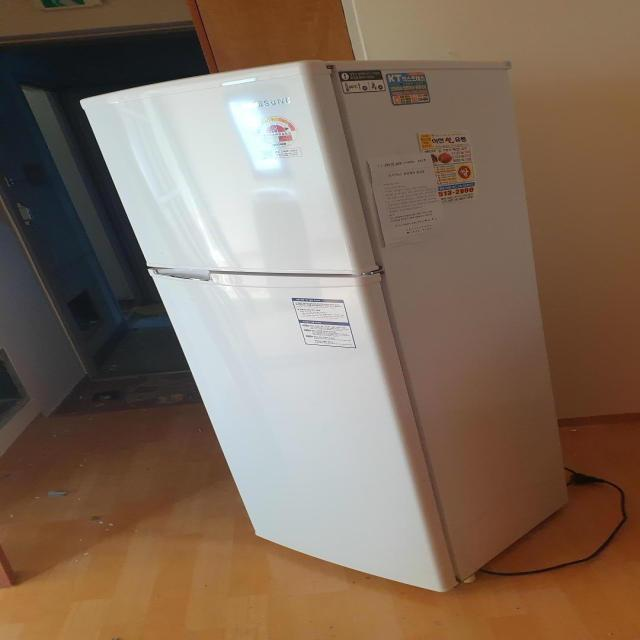refrigerator: (78, 54, 572, 594)
